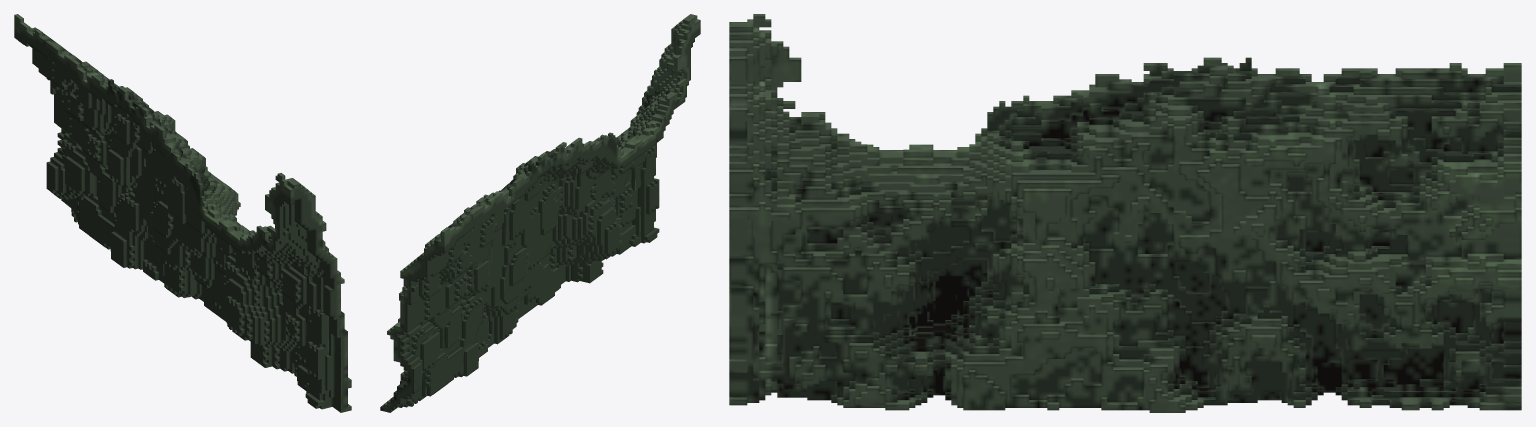
The model's file is treeline01-4-5r.fbx.
3 views of the same model, side by side, from view 1: azimuth 30°, elevation 25°; view 2: azimuth 150°, elevation 25°; view 3: azimuth 270°, elevation 25° (orthographic). The views are drawn at different scales.
Parts seen in each view (by area): view 1: treeline01-4-5r; view 2: treeline01-4-5r; view 3: treeline01-4-5r.
Boxes of the visible parts, x1,y1,x2,y2 form: treeline01-4-5r: (14,14,351,412); treeline01-4-5r: (380,14,700,412); treeline01-4-5r: (729,14,1521,412).
Bounding box in the file's own units: 20 × 64 × 132.
